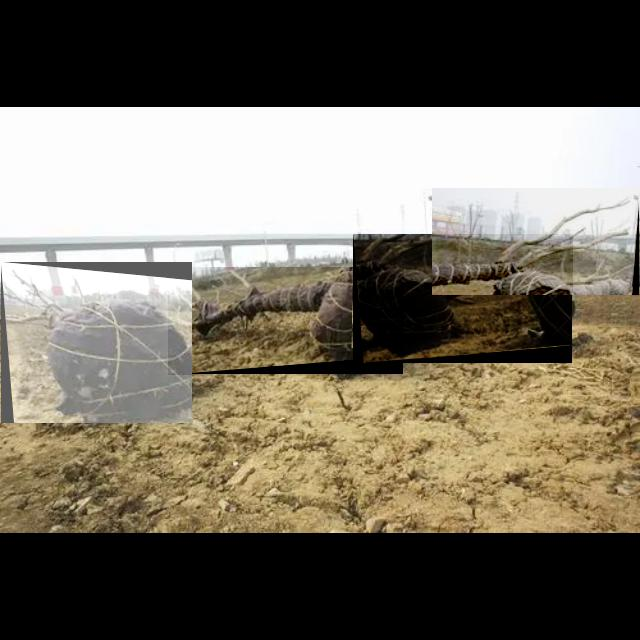Fallen Tree: (1, 262, 193, 424), (353, 234, 573, 364), (168, 267, 404, 375), (432, 188, 640, 296)
